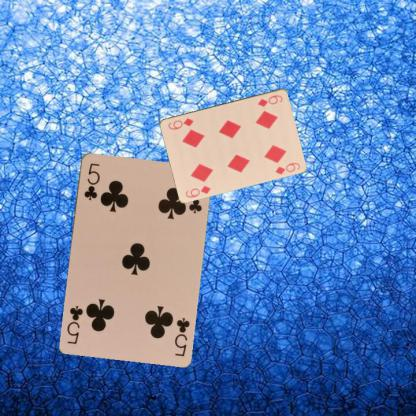5c: (81, 160, 101, 201), (172, 314, 190, 358)
6d: (254, 92, 284, 108), (183, 182, 212, 198)
